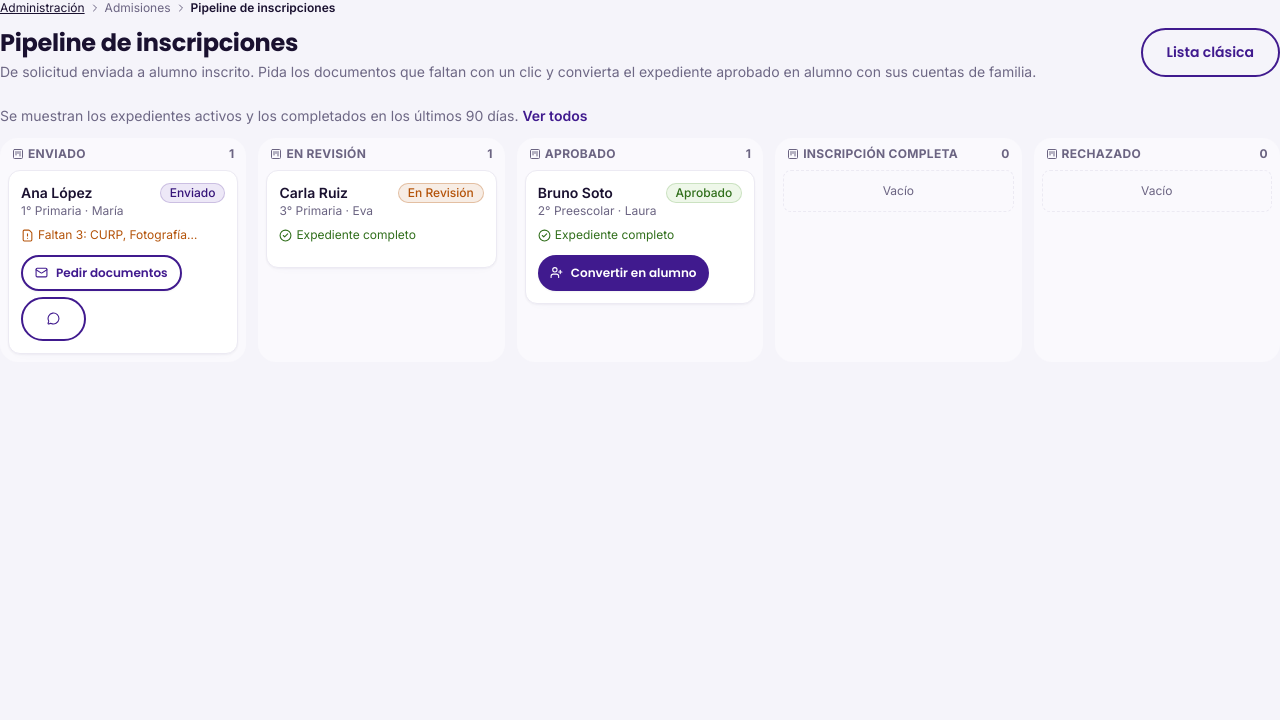
Test: AdminPipeline › lists guardians that were not linked because their email belongs to a non-family account
This screenshot has width=1280, height=720.
Click the button "Convertir en alumno".
click(623, 272)  # box x1=538 y1=254 x2=708 y2=290
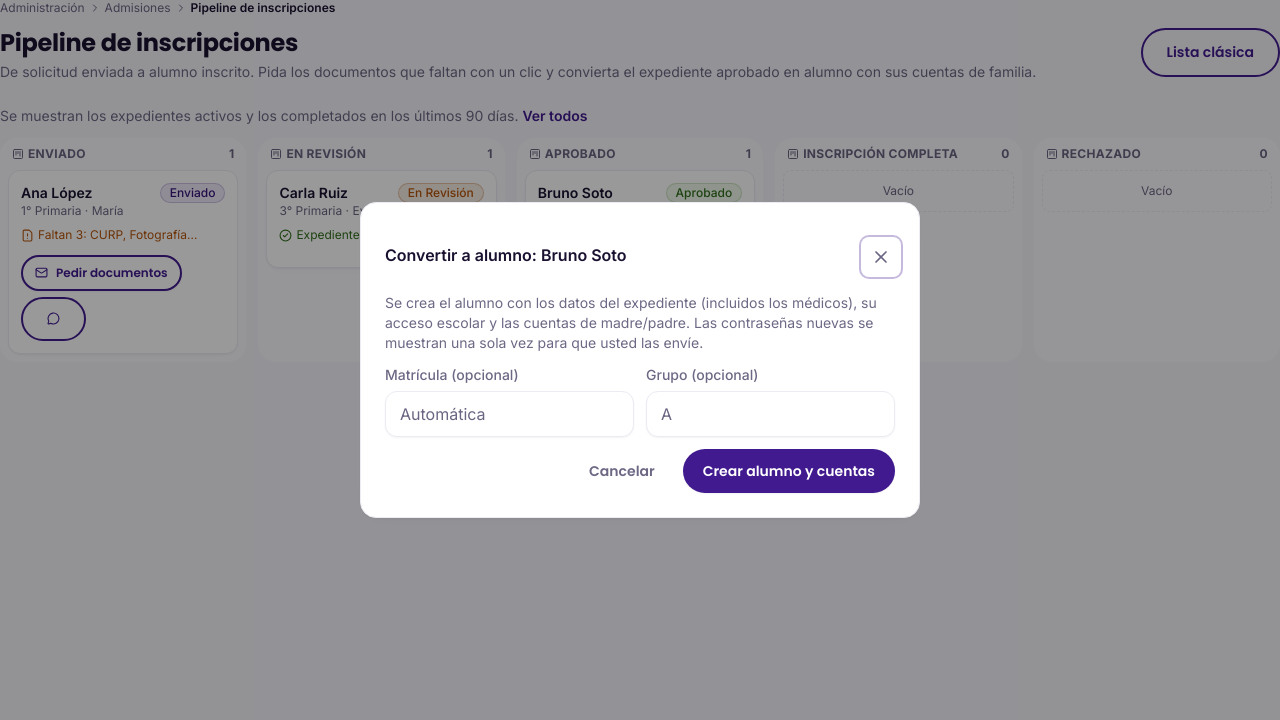
Click the button "Crear alumno y cuentas".
click(789, 471)  # box x1=683 y1=449 x2=895 y2=493
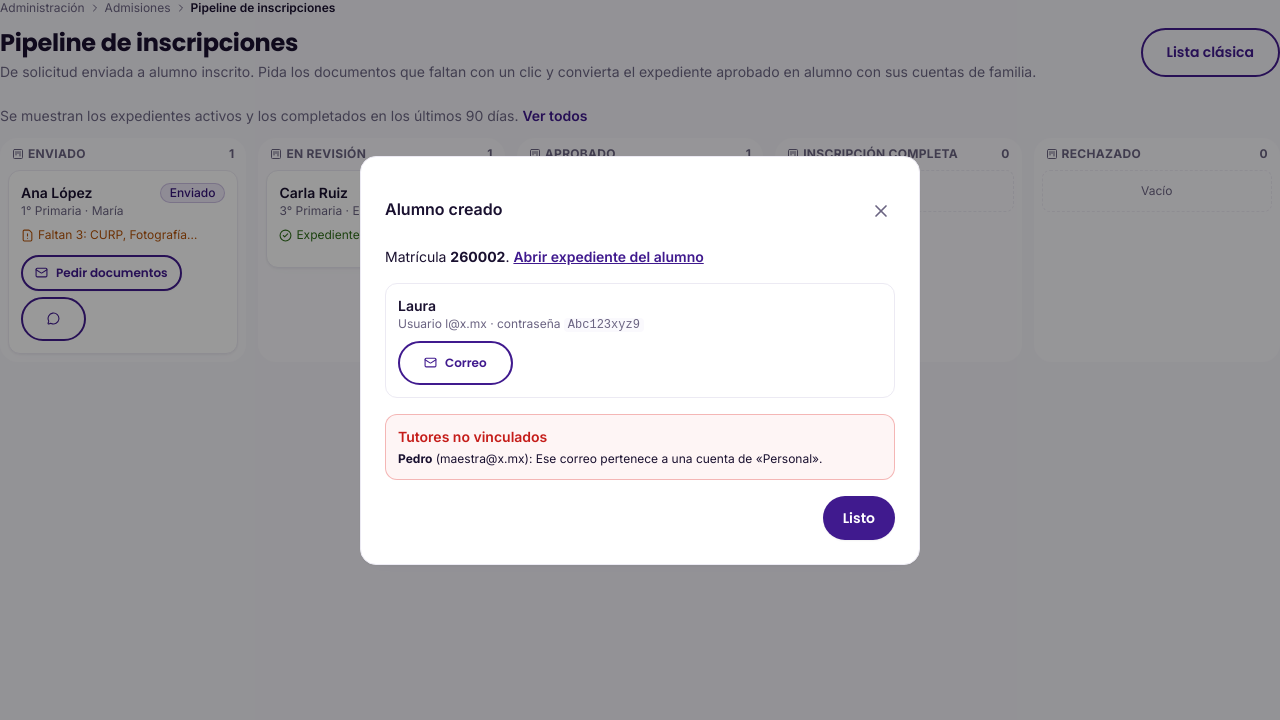
Expected: the list item "maestra@x.mx" is shown, x1=440 y1=450 x2=524 y2=466
